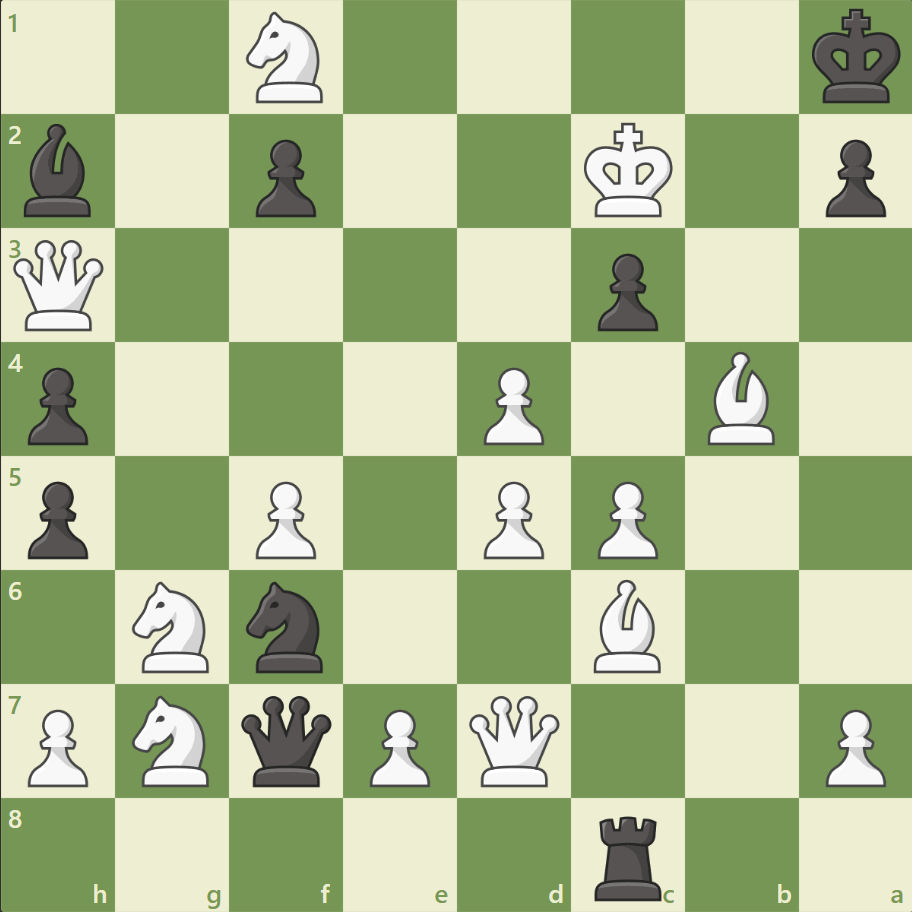B: (585, 574, 669, 676), (698, 347, 782, 449)
K: (579, 117, 679, 225)
N: (124, 688, 222, 791), (124, 575, 222, 677), (238, 7, 335, 110)
P: (20, 700, 95, 791), (474, 473, 549, 564), (247, 473, 322, 564), (474, 359, 549, 450), (815, 700, 889, 791), (361, 700, 435, 791), (588, 473, 662, 564)
Q: (464, 690, 563, 789), (10, 236, 109, 335)
b: (17, 120, 101, 222)
k: (806, 4, 906, 112)
n: (238, 575, 335, 677)
p: (20, 473, 95, 564), (20, 359, 95, 450), (247, 132, 322, 223), (588, 246, 662, 337), (815, 132, 889, 223)
q: (237, 690, 336, 789)
r: (587, 806, 670, 904)
